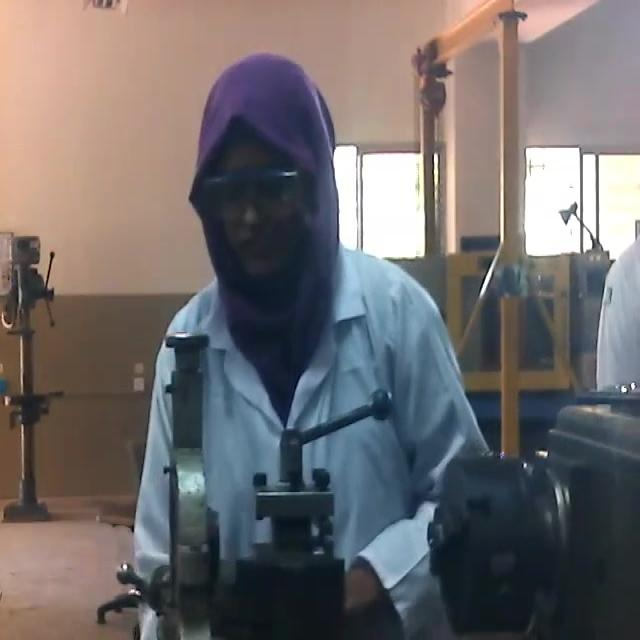googles: (198, 167, 302, 228)
labcoat: (134, 240, 494, 640)
